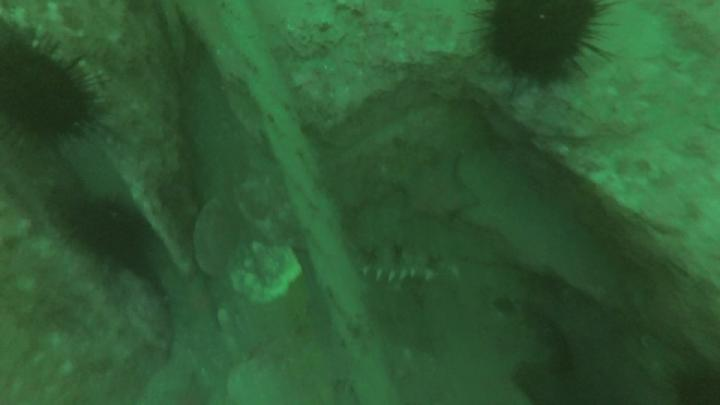echinus: (2, 33, 89, 145), (486, 1, 604, 83), (68, 204, 153, 268)
holothurian: (353, 262, 464, 288)
